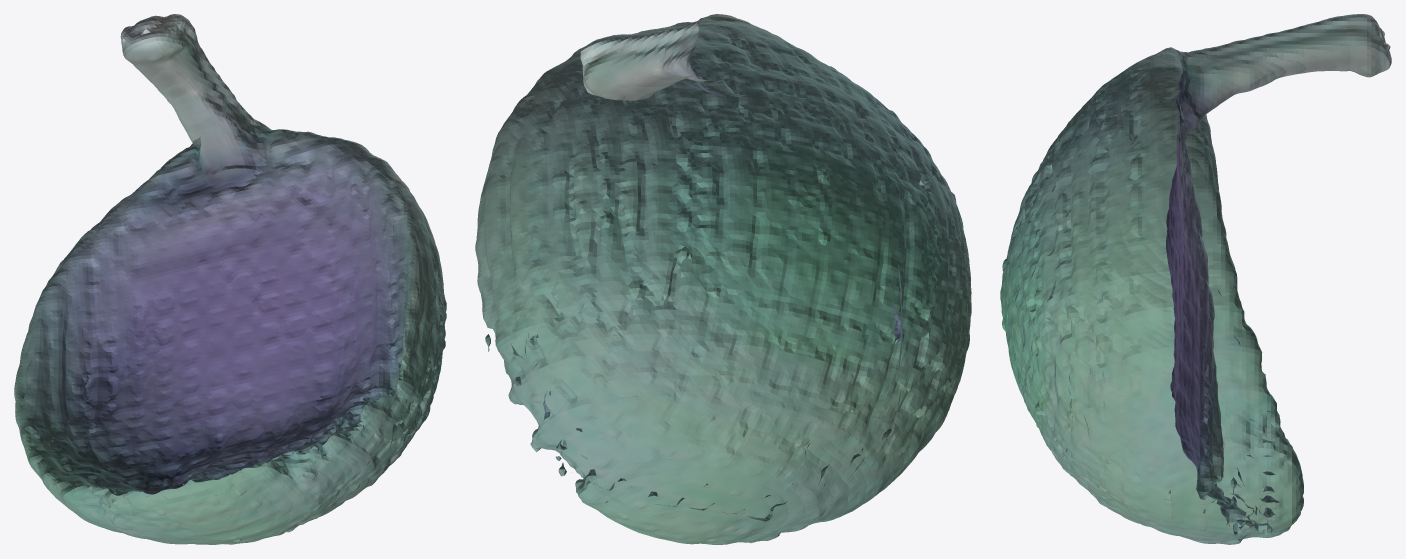
3 renders of one model, left to right at view 1: azimuth 30°, elevation 25°; view 2: azimuth 150°, elevation 25°; view 3: azimuth 270°, elevation 25°, orthographic. The views are drawn at different scales.
Visible parts, largest first — view 1: geometry_0; view 2: geometry_0; view 3: geometry_0.
Part boxes in pixels (x1=…): geometry_0: x1=14, y1=14, x2=446, y2=544; geometry_0: x1=475, y1=14, x2=971, y2=544; geometry_0: x1=1000, y1=14, x2=1391, y2=544.
Bounding box in the file's own units: 1.48 × 1.6 × 1.15.
